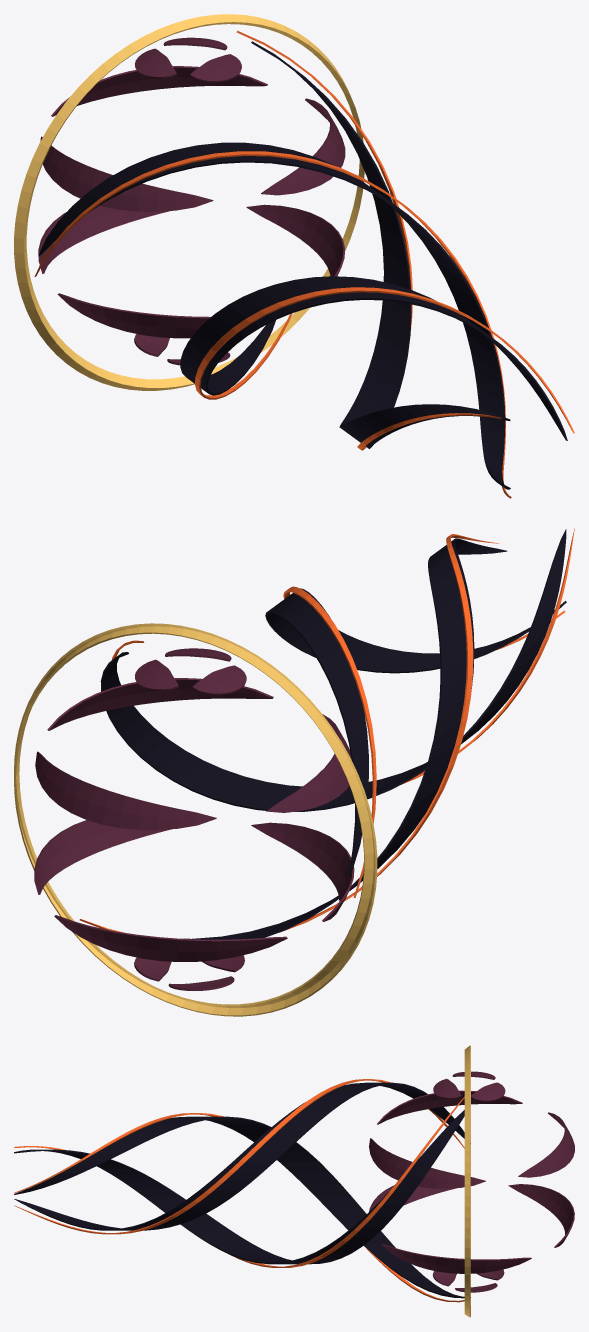
Rendered from VFX_56_EclissiSerpenteSolare.fbx.
3 renders of one model, top to bottom at view 1: azimuth 30°, elevation 25°; view 2: azimuth 150°, elevation 25°; view 3: azimuth 270°, elevation 25°, orthographic. The views are drawn at different scales.
Visible parts, largest first — view 1: VFX_56_EclissiSerpenteSolare; view 2: VFX_56_EclissiSerpenteSolare; view 3: VFX_56_EclissiSerpenteSolare.
Boxes of the visible parts, box(x1,y1,x2,y2) form: VFX_56_EclissiSerpenteSolare: box(14, 14, 574, 498); VFX_56_EclissiSerpenteSolare: box(14, 528, 574, 1016); VFX_56_EclissiSerpenteSolare: box(14, 1045, 574, 1317).
Size of the model in its own units: 184 by 185 by 381.
Materials: 1 (1 with a texture image).
